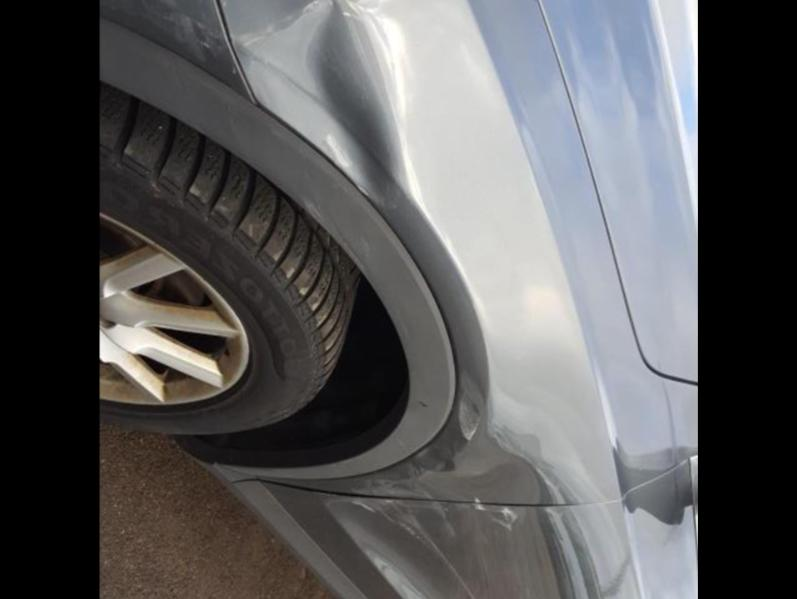Dent: (229, 0, 413, 210), (351, 375, 561, 503), (454, 369, 484, 439), (410, 442, 456, 472)
Paint chip: (419, 401, 428, 406)
Scratch: (111, 0, 222, 55), (347, 496, 430, 550), (303, 198, 364, 271), (233, 0, 326, 47), (362, 268, 408, 347), (433, 542, 478, 599), (349, 481, 428, 499), (473, 505, 514, 529), (323, 132, 349, 165), (434, 501, 456, 538), (307, 201, 321, 216), (340, 5, 360, 15), (356, 184, 367, 196), (230, 65, 236, 75), (199, 0, 203, 4)
